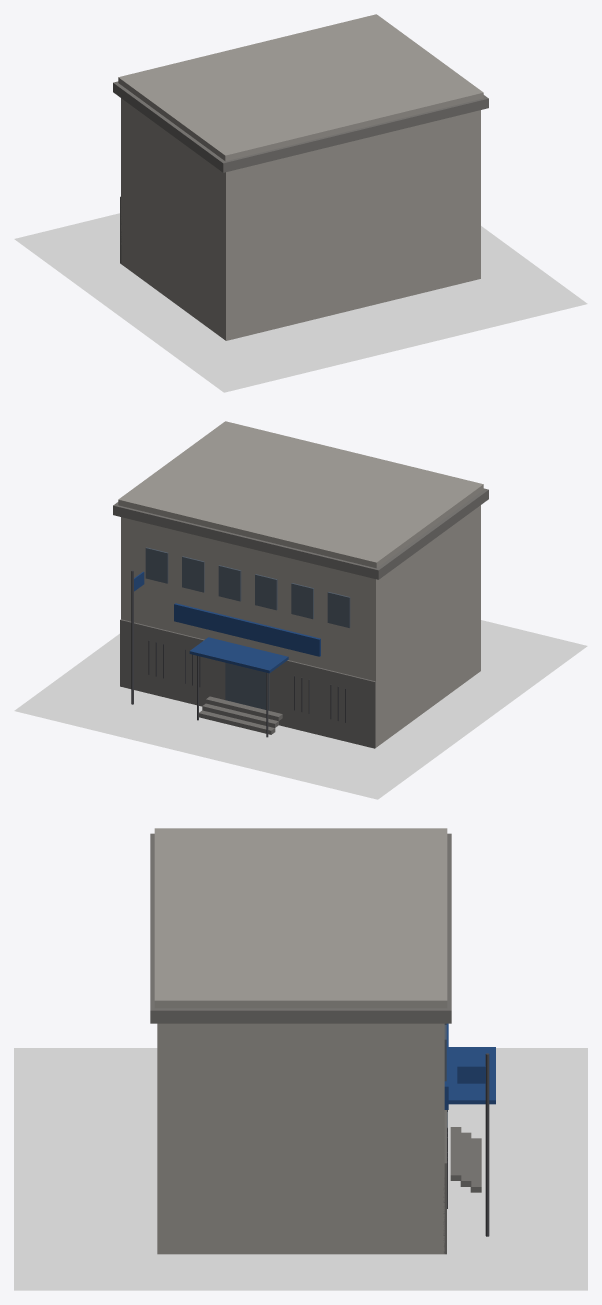
The model's file is precinct.glb.
The picture shows the model from 3 angles, top to bottom: view 1: azimuth 30°, elevation 25°; view 2: azimuth 150°, elevation 25°; view 3: azimuth 270°, elevation 25°; orthographic projection. The views are drawn at different scales.
Visible parts, largest first — view 1: Cube, Plane, Cube.003, Cube.002; view 2: Cube, Cube.003, Plane, Cube.001, Cube.002, Cube.009, Cube.008, Cube.007, Cube.026, Cube.029, Cube.031, Cube.027 (+5 smaller); view 3: Plane, Cube, Cube.003, Cube.002, Cube.008, Cylinder.002, Cube.006, Cube.004, Cube.005.
Part boxes in pixels (left/top/right/bottom): Cube: left=121, top=98, right=480, bottom=340; Plane: left=14, top=213, right=587, bottom=392; Cube.003: left=118, top=14, right=483, bottom=161; Cube.002: left=113, top=81, right=488, bottom=172; Cube: left=121, top=505, right=480, bottom=747; Cube.003: left=118, top=421, right=483, bottom=568; Plane: left=14, top=620, right=587, bottom=799; Cube.001: left=120, top=619, right=375, bottom=748; Cube.002: left=113, top=488, right=488, bottom=579; Cube.009: left=174, top=603, right=320, bottom=656; Cube.008: left=189, top=637, right=288, bottom=673; Cube.007: left=225, top=662, right=269, bottom=710; Cube.026: left=327, top=592, right=350, bottom=627; Cube.029: left=218, top=565, right=241, bottom=601; Cube.031: left=145, top=547, right=168, bottom=583; Cube.027: left=291, top=583, right=313, bottom=619; Plane: left=14, top=1048, right=587, bottom=1290; Cube: left=157, top=1023, right=444, bottom=1254; Cube.003: left=154, top=828, right=447, bottom=1008; Cube.002: left=150, top=833, right=451, bottom=1023; Cube.008: left=448, top=1047, right=495, bottom=1104; Cylinder.002: left=485, top=1053, right=489, bottom=1236; Cube.006: left=450, top=1127, right=461, bottom=1180; Cube.004: left=470, top=1138, right=481, bottom=1192; Cube.005: left=460, top=1132, right=471, bottom=1186.
Size of the model in its own units: 20 by 9.8 by 20.
